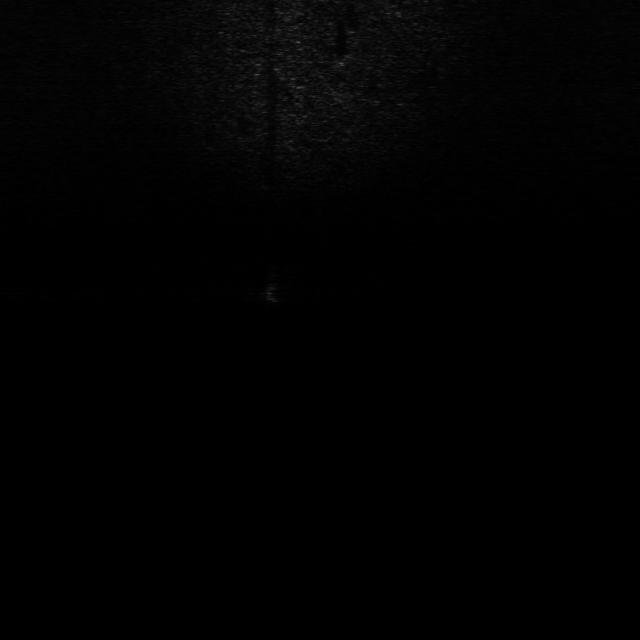human body: (257, 260, 289, 311)
